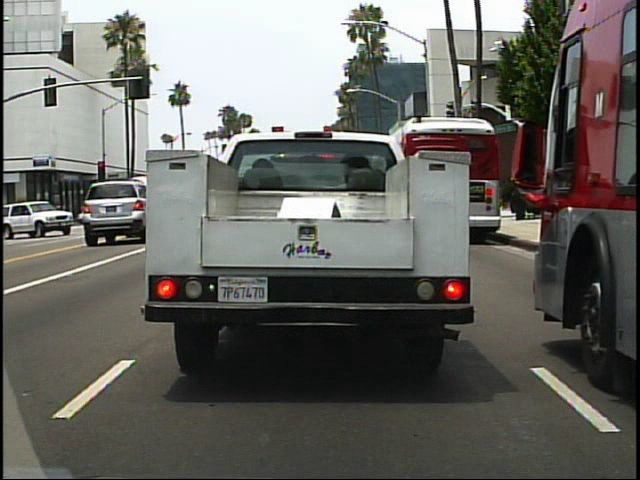person: (511, 181, 534, 222), (18, 200, 37, 234)
